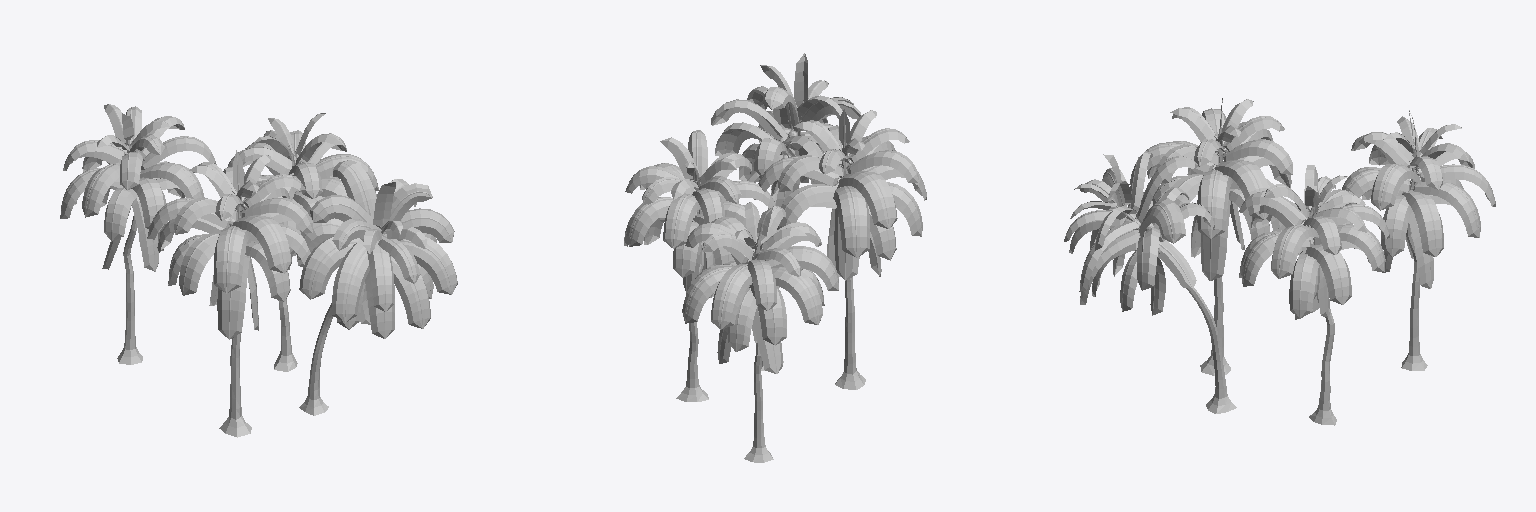
The model's file is NewTree.obj.
The picture shows the model from 3 angles: view 1: azimuth 30°, elevation 25°; view 2: azimuth 150°, elevation 25°; view 3: azimuth 270°, elevation 25°; orthographic projection.
Parts seen in each view (by area): view 1: CoconutTress; view 2: CoconutTress; view 3: CoconutTress.
Part boxes in pixels (left/top/right/bottom): CoconutTress: left=60, top=104, right=457, bottom=437; CoconutTress: left=624, top=53, right=926, bottom=462; CoconutTress: left=1064, top=98, right=1495, bottom=425.
Bounding box in the file's own units: 40 × 42.83 × 60.78.